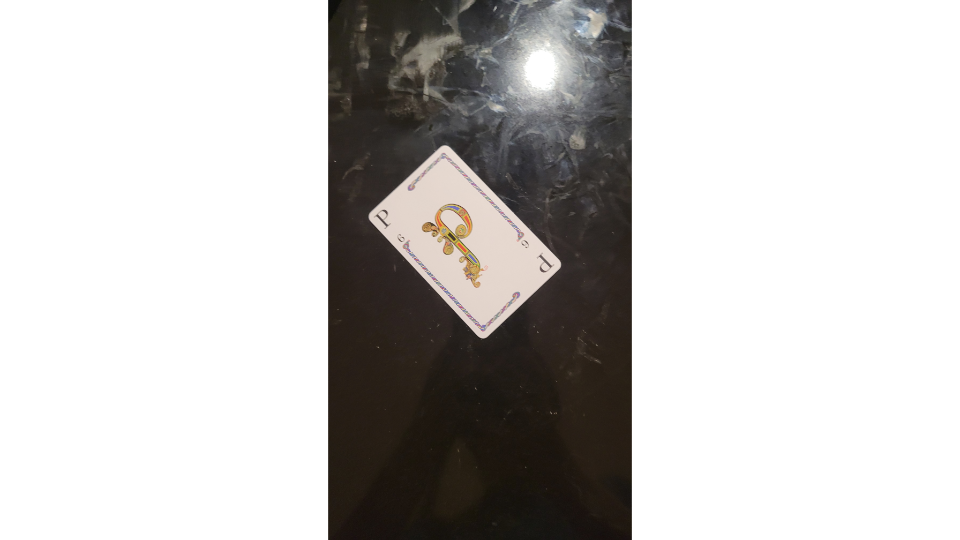P: (365, 142, 563, 341)
